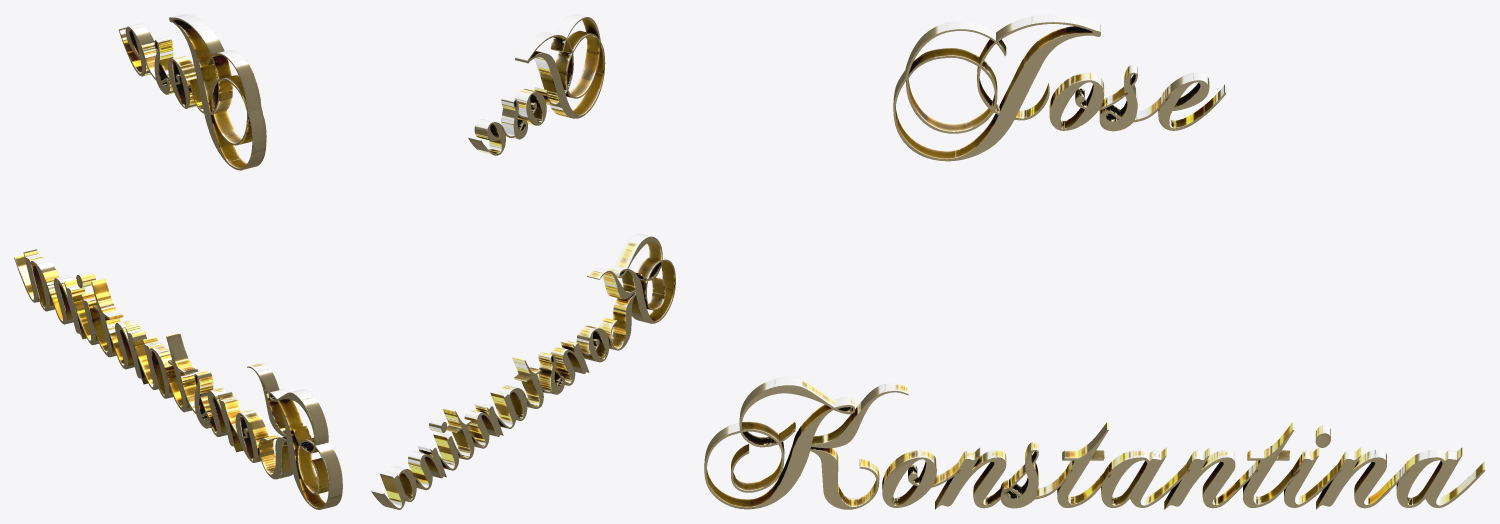
The model's file is nombresBakesSINY.gltf.
3 renders of one model, left to right at view 1: azimuth 30°, elevation 25°; view 2: azimuth 150°, elevation 25°; view 3: azimuth 270°, elevation 25°, orthographic. The views are drawn at different scales.
Parts seen in each view (by area): view 1: TextPlus001.003, TextPlus001; view 2: TextPlus001.003, TextPlus001; view 3: TextPlus001.003, TextPlus001.
Part boxes in pixels (bbox=[...]): TextPlus001.003: bbox=[14, 249, 342, 509]; TextPlus001: bbox=[119, 14, 266, 170]; TextPlus001.003: bbox=[371, 233, 675, 509]; TextPlus001: bbox=[468, 14, 605, 155]; TextPlus001.003: bbox=[704, 377, 1485, 509]; TextPlus001: bbox=[893, 14, 1226, 161].
Bounding box in the file's own units: 0.0839 × 2.35 × 3.41.
1 material, 1 textured.
